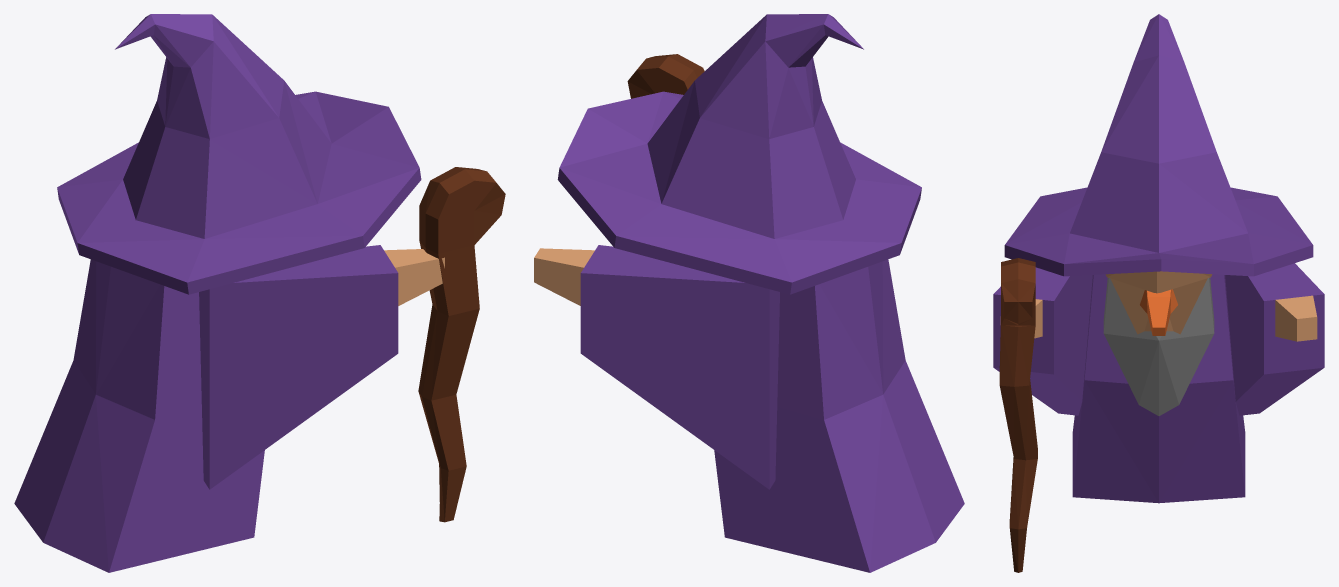
File: Wizard.dae
3 views of the same model, side by side, from view 1: azimuth 30°, elevation 25°; view 2: azimuth 150°, elevation 25°; view 3: azimuth 270°, elevation 25° (orthographic). The views are drawn at different scales.
Parts seen in each view (by area): view 1: 立方体.002, Cube, 立方体.004, 立方体.006, 立方体.008; view 2: 立方体.002, Cube, 立方体.003, 立方体.006, 立方体.007; view 3: 立方体.002, Cube, 立方体.003, 立方体.006, 立方体.005, 立方体.004, 立方体, 立方体.007, 立方体.001.
Boxes of the visible parts, left/top/right/bottom form: 立方体.002: left=57, top=14, right=421, bottom=294; Cube: left=14, top=259, right=264, bottom=572; 立方体.004: left=199, top=245, right=398, bottom=489; 立方体.006: left=418, top=167, right=505, bottom=522; 立方体.008: left=384, top=249, right=444, bottom=305; 立方体.002: left=557, top=14, right=921, bottom=294; Cube: left=714, top=259, right=964, bottom=572; 立方体.003: left=580, top=245, right=779, bottom=489; 立方体.006: left=627, top=54, right=704, bottom=98; 立方体.007: left=534, top=248, right=594, bottom=305; 立方体.002: left=1004, top=14, right=1313, bottom=276; Cube: left=1072, top=274, right=1245, bottom=503; 立方体.003: left=1225, top=263, right=1324, bottom=415; 立方体.006: left=999, top=258, right=1037, bottom=572; 立方体.005: left=1103, top=277, right=1214, bottom=415; 立方体.004: left=993, top=267, right=1092, bottom=415; 立方体: left=1105, top=271, right=1212, bottom=334; 立方体.007: left=1275, top=295, right=1317, bottom=341; 立方体.001: left=1140, top=289, right=1177, bottom=335.
Bounding box in the file's own units: 3.22 × 2.68 × 4.1.
